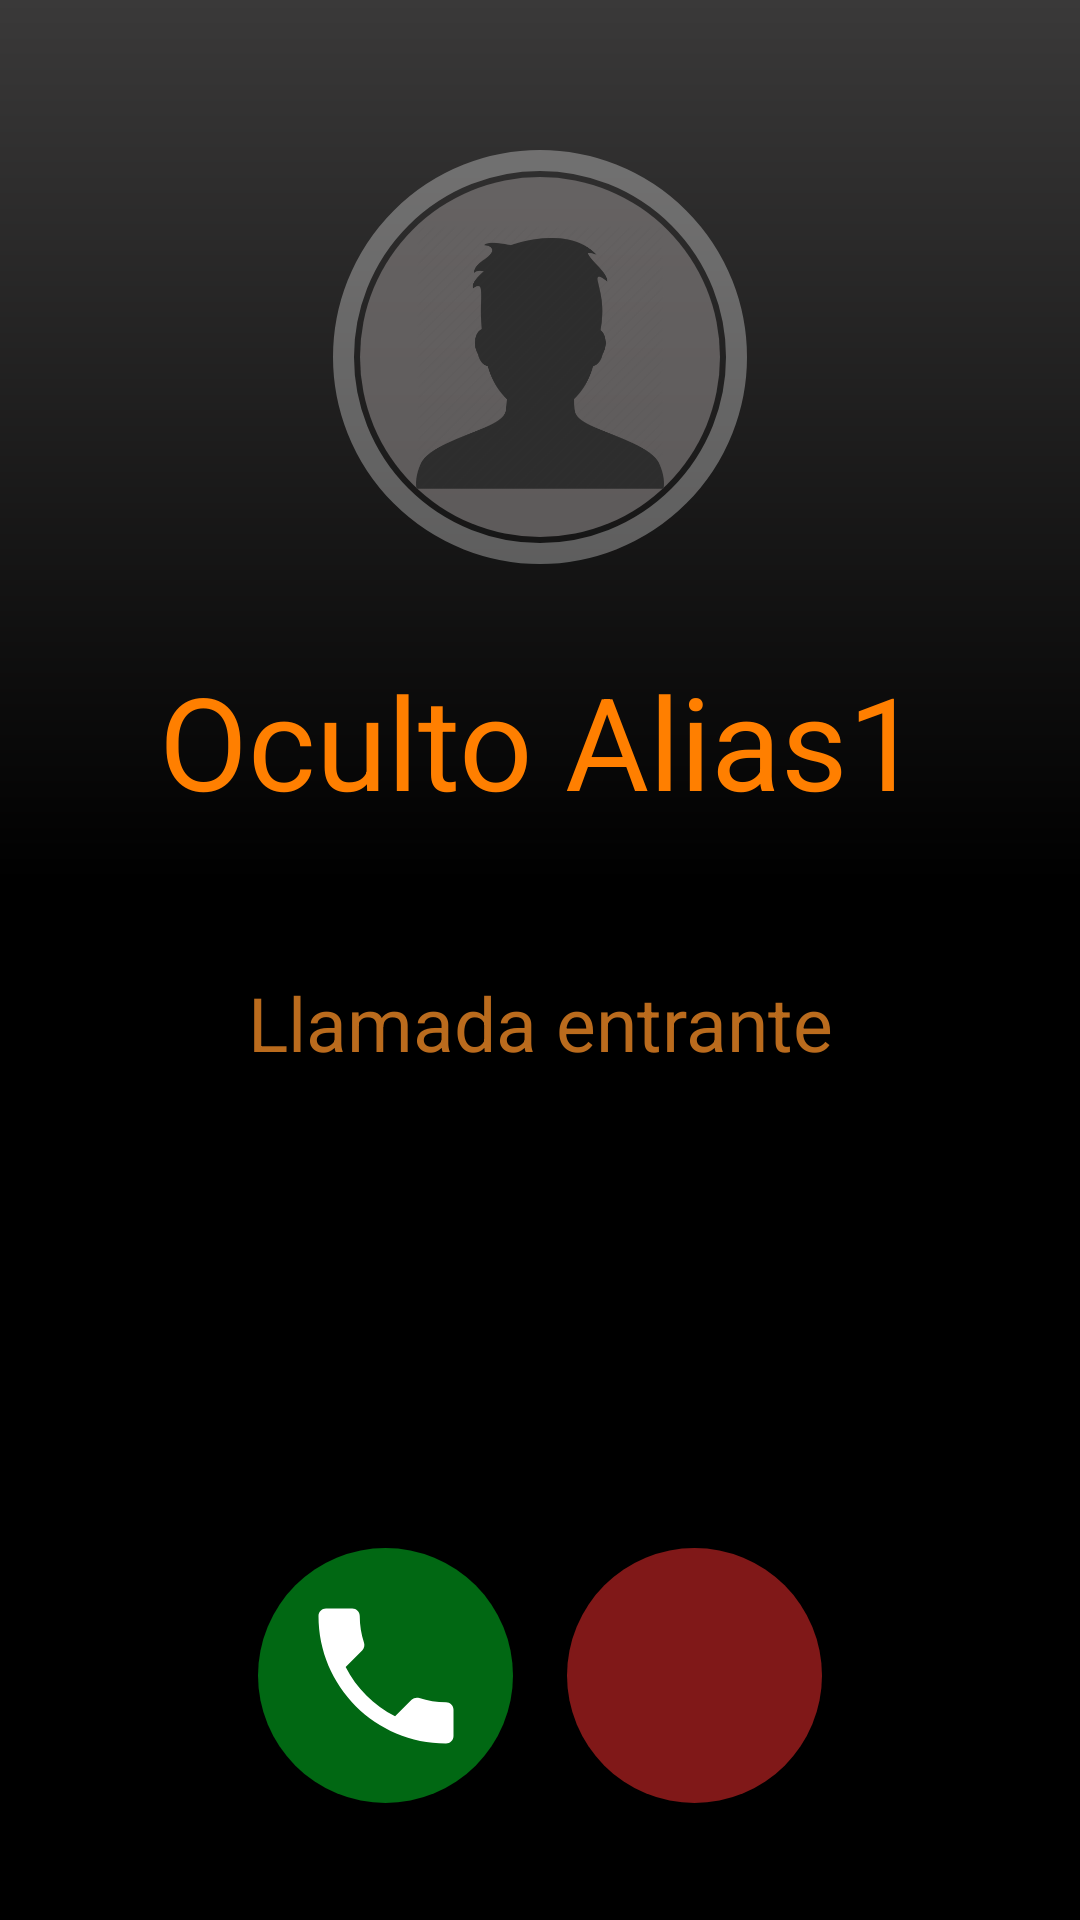

Where to tap for icons on this 1080w x 1920h app screen, as [x,y]:
call: [385,1675]
user: [540,357]
